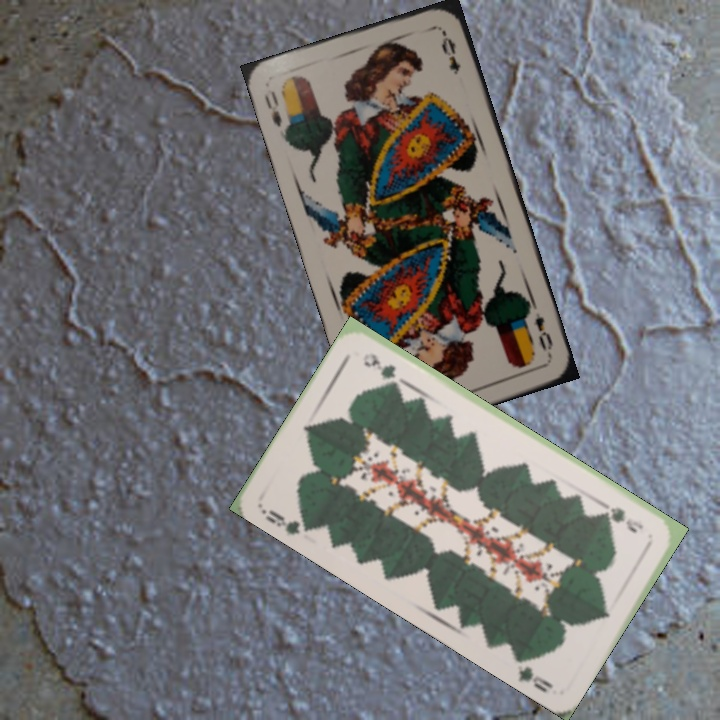EO: (531, 308, 556, 360), (260, 87, 285, 130)
G9: (257, 505, 316, 538), (601, 501, 646, 535)
